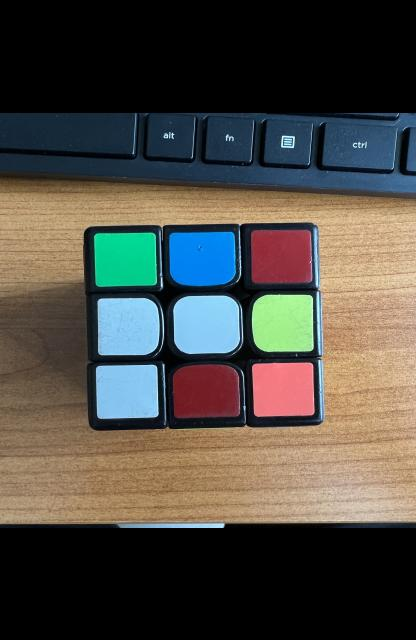Blue: (169, 231, 236, 285)
Green: (94, 231, 157, 286)
Orange: (252, 361, 314, 416)
Red: (173, 363, 240, 418), (250, 229, 313, 282)
White: (173, 294, 240, 352), (97, 297, 159, 355), (96, 363, 158, 418)
Yellow: (252, 293, 314, 351)
